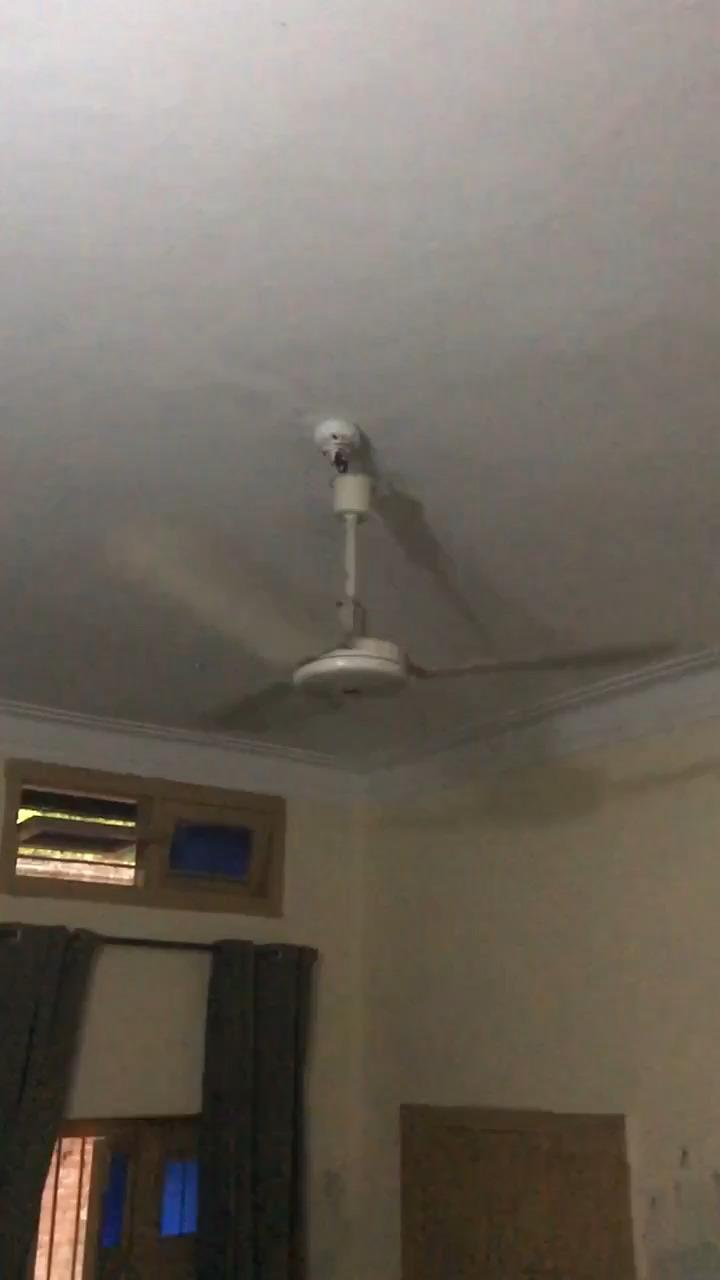fan: (189, 417, 683, 754)
